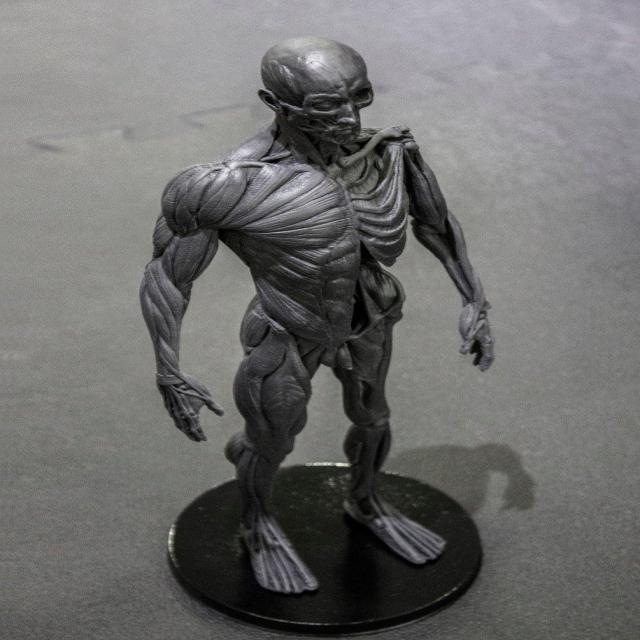Without deffect: (108, 27, 540, 627)
